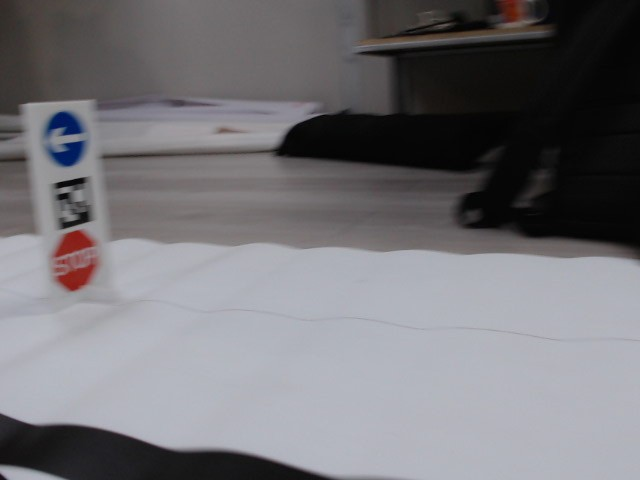Stop: (49, 229, 99, 290)
